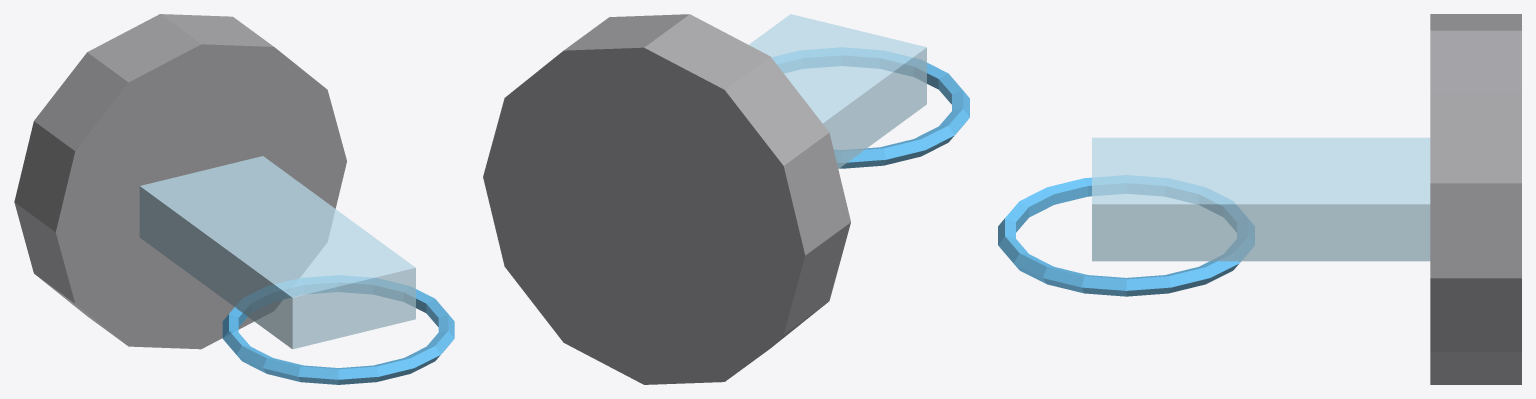
Rendered from snow_frost_shrine.glb.
3 renders of one model, left to right at view 1: azimuth 30°, elevation 25°; view 2: azimuth 150°, elevation 25°; view 3: azimuth 270°, elevation 25°, orthographic. The views are drawn at different scales.
Parts seen in each view (by area): view 1: base, slab, halo; view 2: base, slab, halo; view 3: slab, base, halo.
Part boxes in pixels (box(x1,y1,x2,y2)): base: box(14, 14, 346, 349); slab: box(139, 156, 415, 349); halo: box(222, 275, 454, 384); base: box(483, 14, 850, 384); slab: box(749, 14, 926, 168); halo: box(772, 48, 969, 168); slab: box(1092, 137, 1430, 261); base: box(1430, 14, 1521, 384); halo: box(998, 175, 1254, 296).
Size of the model in its own units: 1.3 by 1.3 by 1.83.
